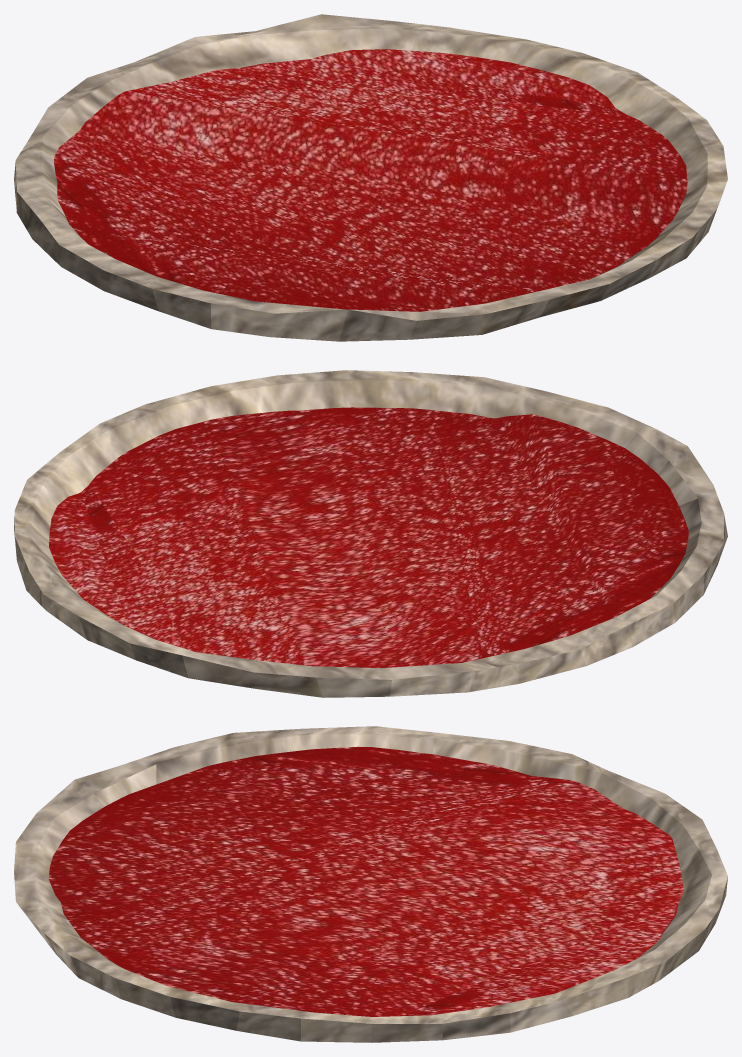
Rendered from pizzabodem_saus.glb.
The picture shows the model from 3 angles, top to bottom: view 1: azimuth 30°, elevation 25°; view 2: azimuth 150°, elevation 25°; view 3: azimuth 270°, elevation 25°; orthographic projection.
Parts seen in each view (by area): view 1: Cylinder.002, Cylinder.001; view 2: Cylinder.002, Cylinder.001; view 3: Cylinder.002, Cylinder.001.
Part boxes in pixels (x1,y1,x2,y2): Cylinder.002: [54, 49, 687, 311]; Cylinder.001: [14, 14, 727, 341]; Cylinder.002: [49, 407, 688, 667]; Cylinder.001: [14, 370, 727, 697]; Cylinder.002: [48, 746, 683, 1016]; Cylinder.001: [14, 726, 727, 1042].
Size of the model in its own units: 1.94 by 0.101 by 1.97.
Materials: 2 (2 with a texture image).
